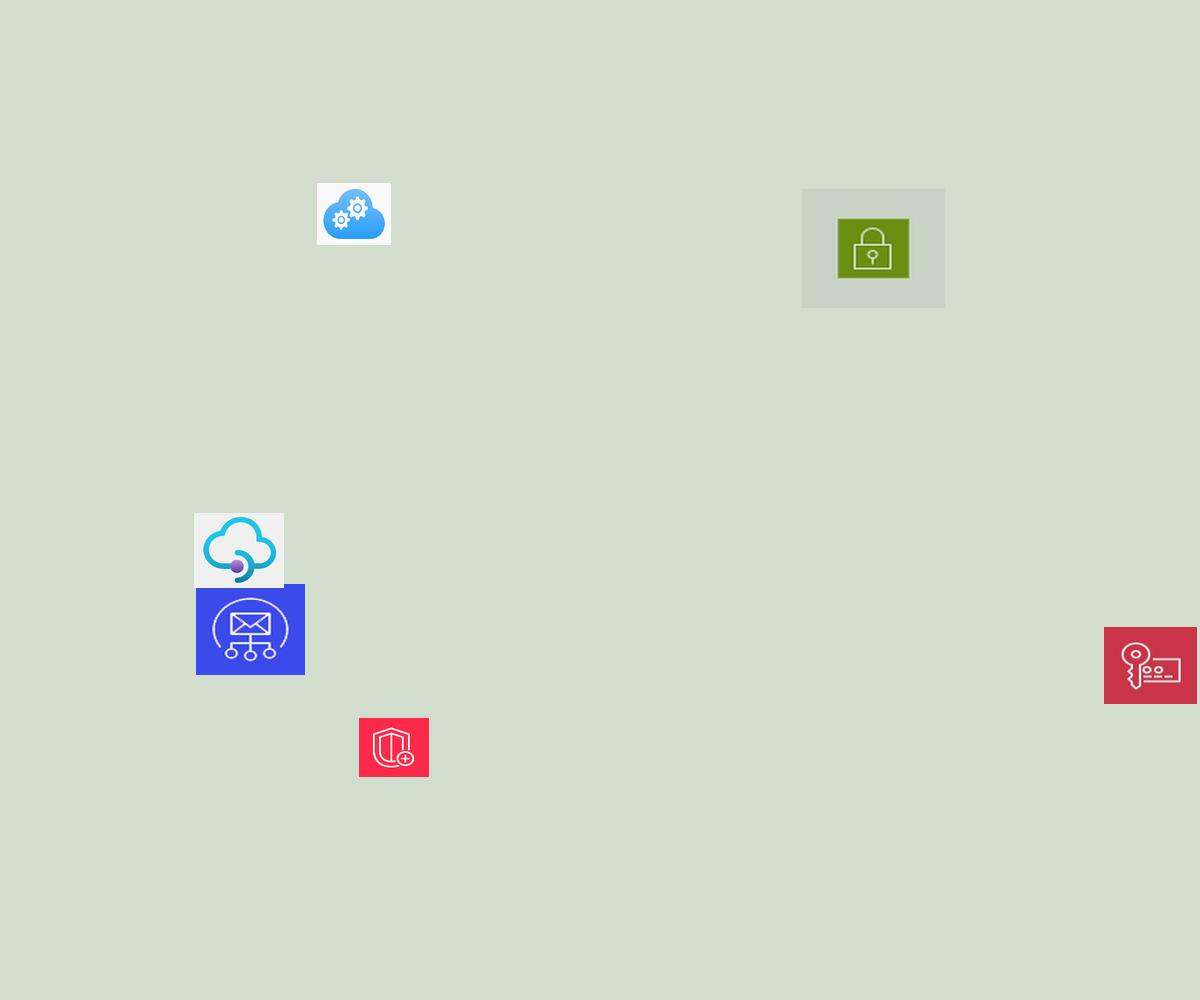AWS-Key-Management-Service: (1104, 627, 1197, 704)
AWS-Public-subnet: (802, 189, 945, 308)
AWS-Shield: (359, 718, 429, 777)
AWS-Simple-Email-Service: (196, 584, 305, 675)
Azure_api_gateway: (194, 513, 284, 588)
Azure_cloud_services: (317, 183, 391, 245)
